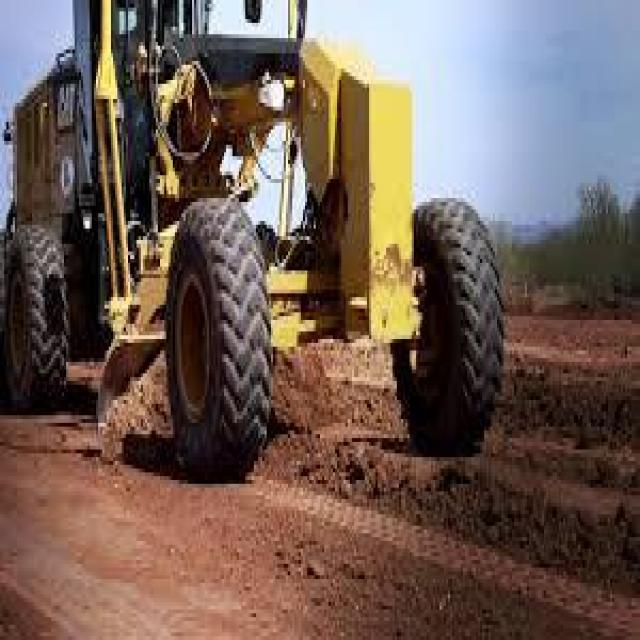Grader: (2, 4, 510, 537)
